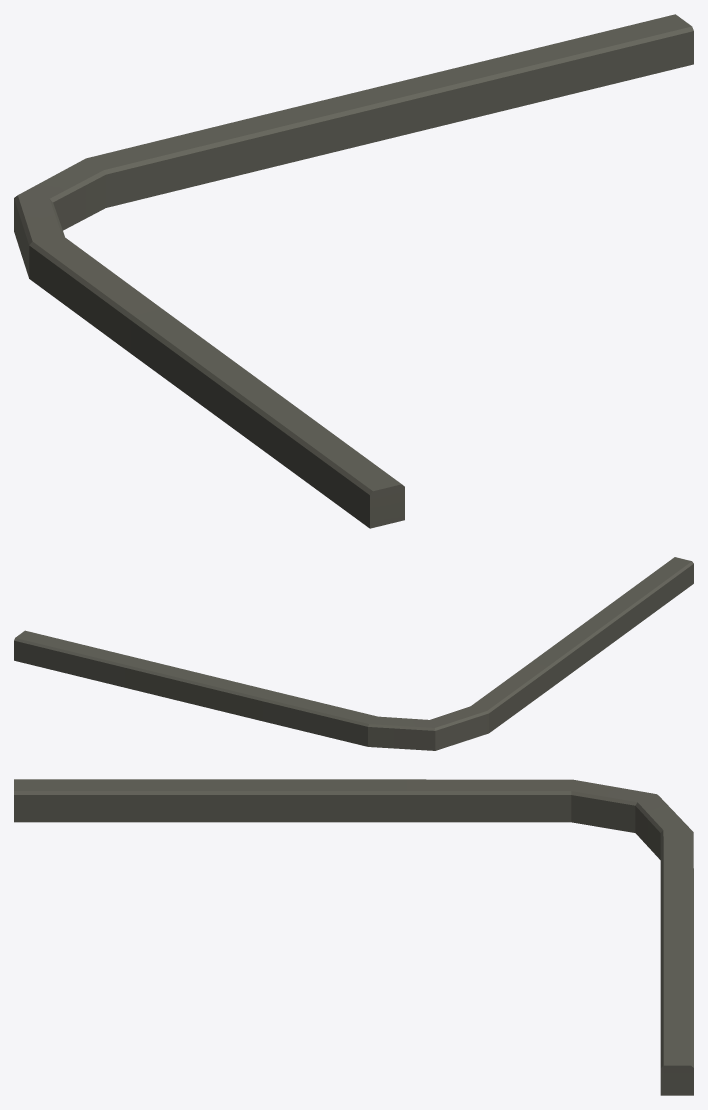
File: RoadPart_06.fbx
The picture shows the model from 3 angles, top to bottom: view 1: azimuth 30°, elevation 25°; view 2: azimuth 150°, elevation 25°; view 3: azimuth 270°, elevation 25°; orthographic projection. The views are drawn at different scales.
Parts seen in each view (by area): view 1: RoadPart_06; view 2: RoadPart_06; view 3: RoadPart_06.
Part boxes in pixels (x1,y1,x2,y2): RoadPart_06: [14, 14, 693, 528]; RoadPart_06: [14, 557, 693, 750]; RoadPart_06: [14, 779, 693, 1095].
Bounding box in the file's own units: 3.08 × 0.15 × 3.08.
